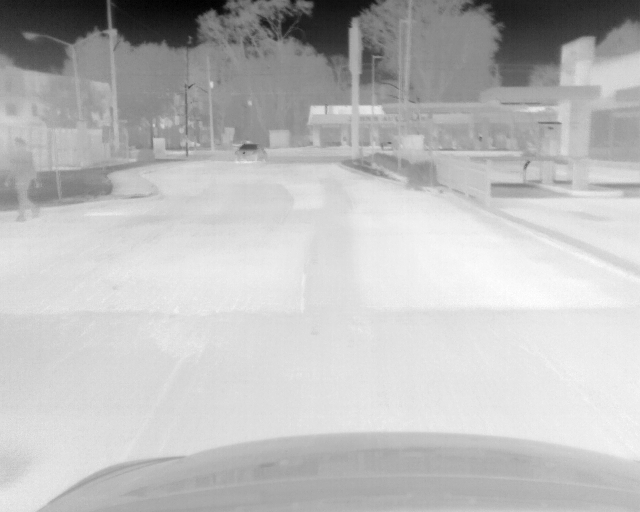car: (232, 142, 268, 167)
people: (2, 139, 42, 224)
